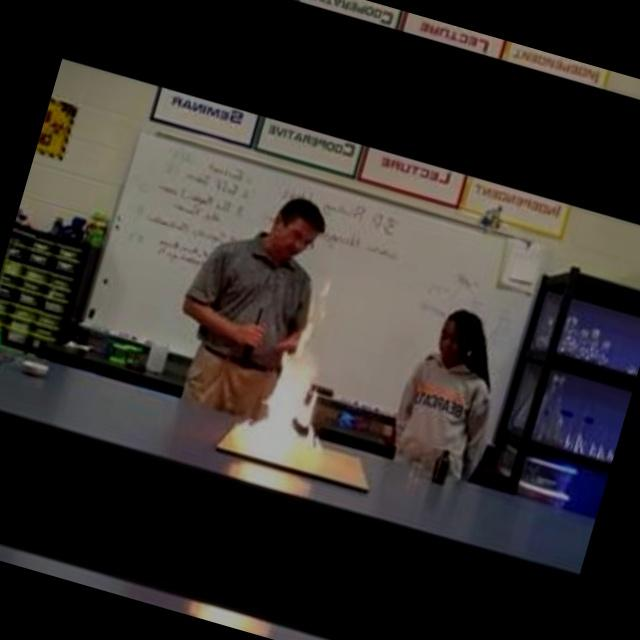fire: (232, 298, 361, 486)
